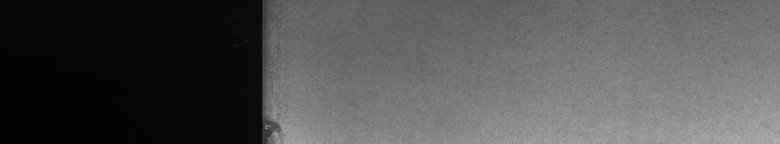hb: (272, 112, 289, 136)
